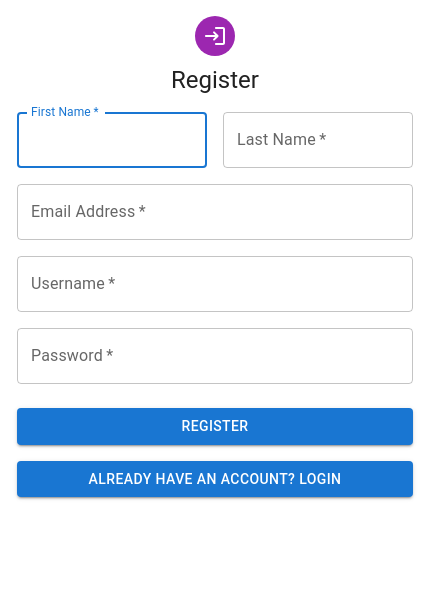
Test case: shows error message on registration failure
Type "John" into the field labelled "First Name *".
click(112, 140); type("John")  # box [17,112,207,168]
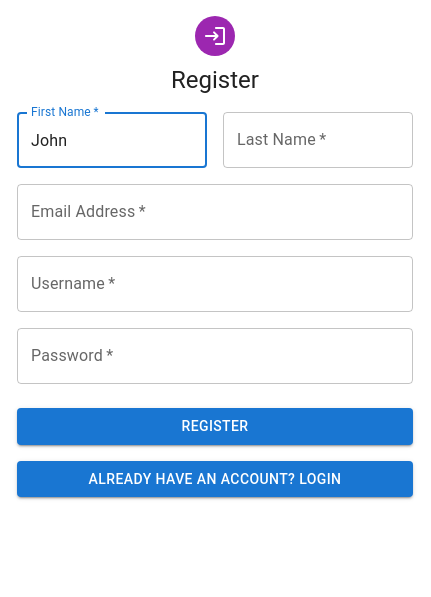
Type "Doe" into the field labelled "Last Name *".
click(318, 140); type("Doe")  # box [223,112,413,168]
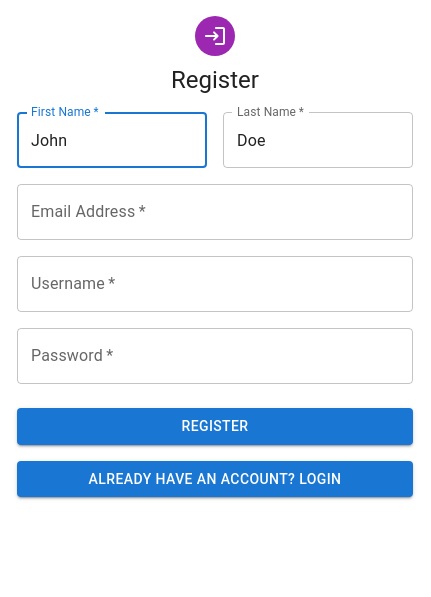
Type "john.doe@example.com" into the field labelled "Email Address *".
click(215, 212); type("john.doe@example.com")  # box [17,184,413,240]
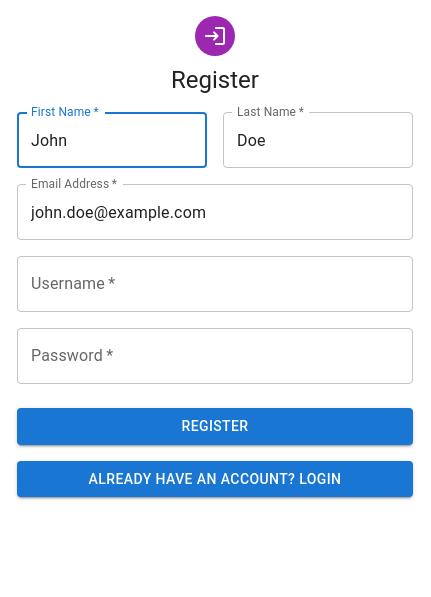
Type "johndoe" into the field labelled "Username *".
click(215, 284); type("johndoe")  # box [17,256,413,312]
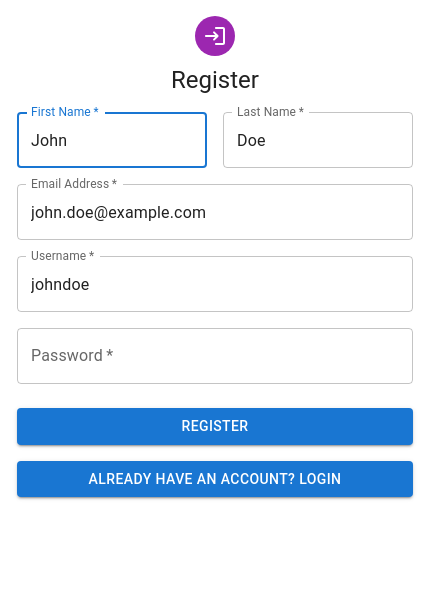
Type "password123" into the password field labelled "Password *".
click(215, 356); type("password123")  # box [17,328,413,384]
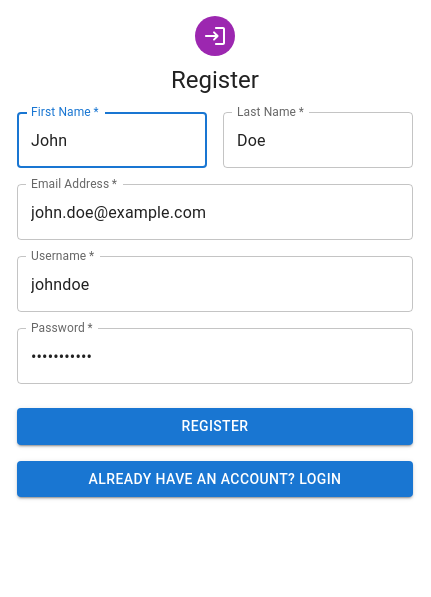
Submit the form from the button "Register", box [17,408,413,444]
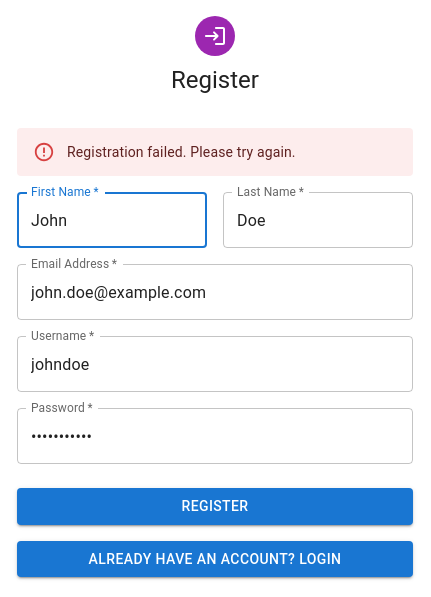
Result: the text "Registration failed. Please try again." is shown at [67,144,296,160]
